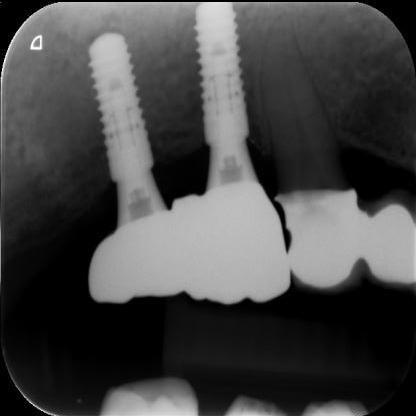ITI: (72, 27, 158, 183), (178, 10, 260, 160)
